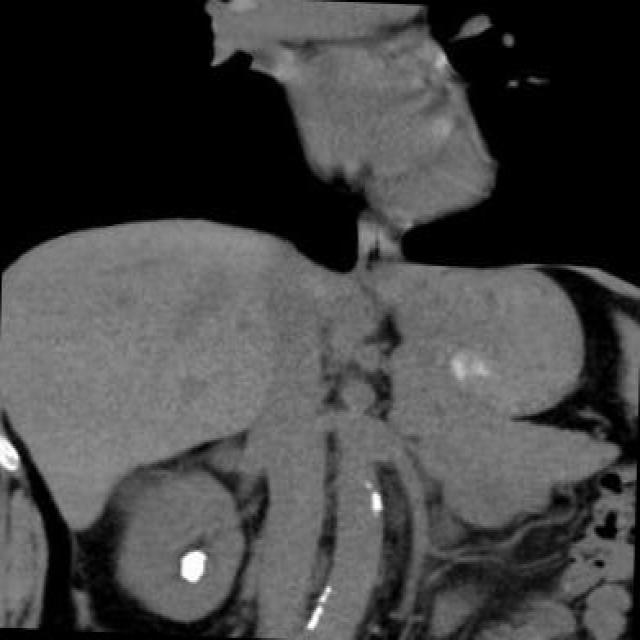Tas_Var: (169, 543, 217, 591)
